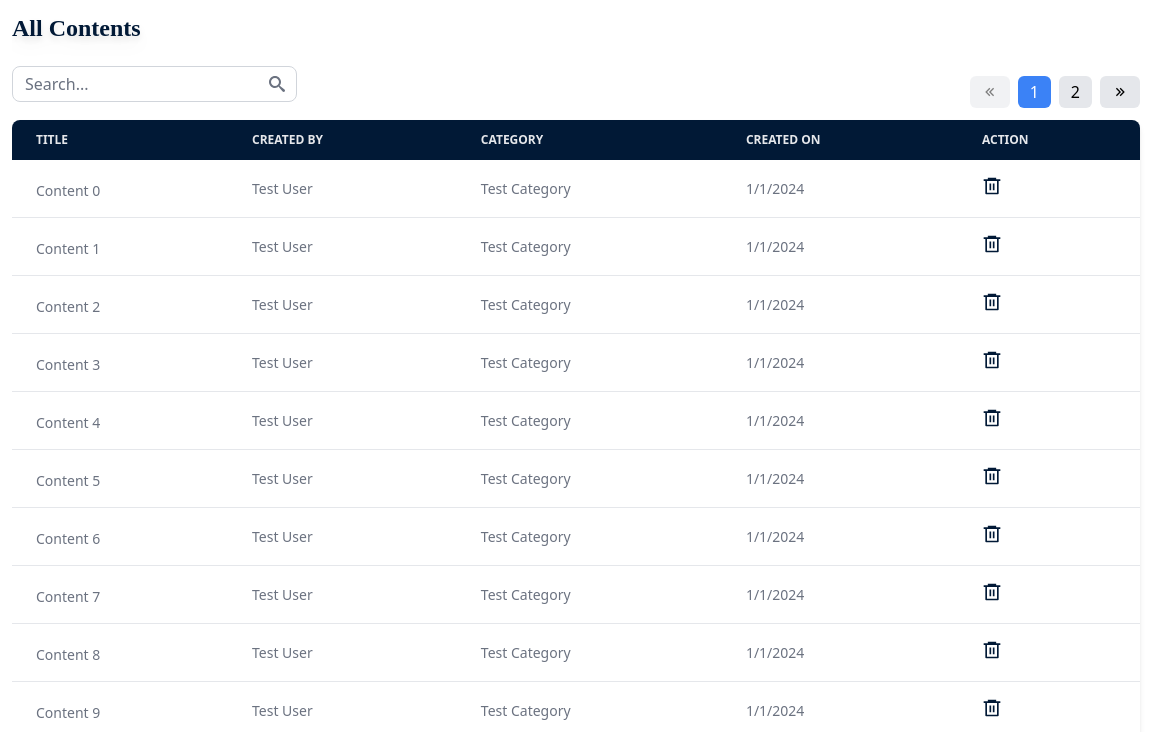
Test: ContentTable Component › updates pagination when data changes
Expected: the text "Content 0" is shown, x1=12 y1=165 x2=124 y2=217
Click the button "2".
click(1075, 92)  # box x1=1059 y1=76 x2=1092 y2=108
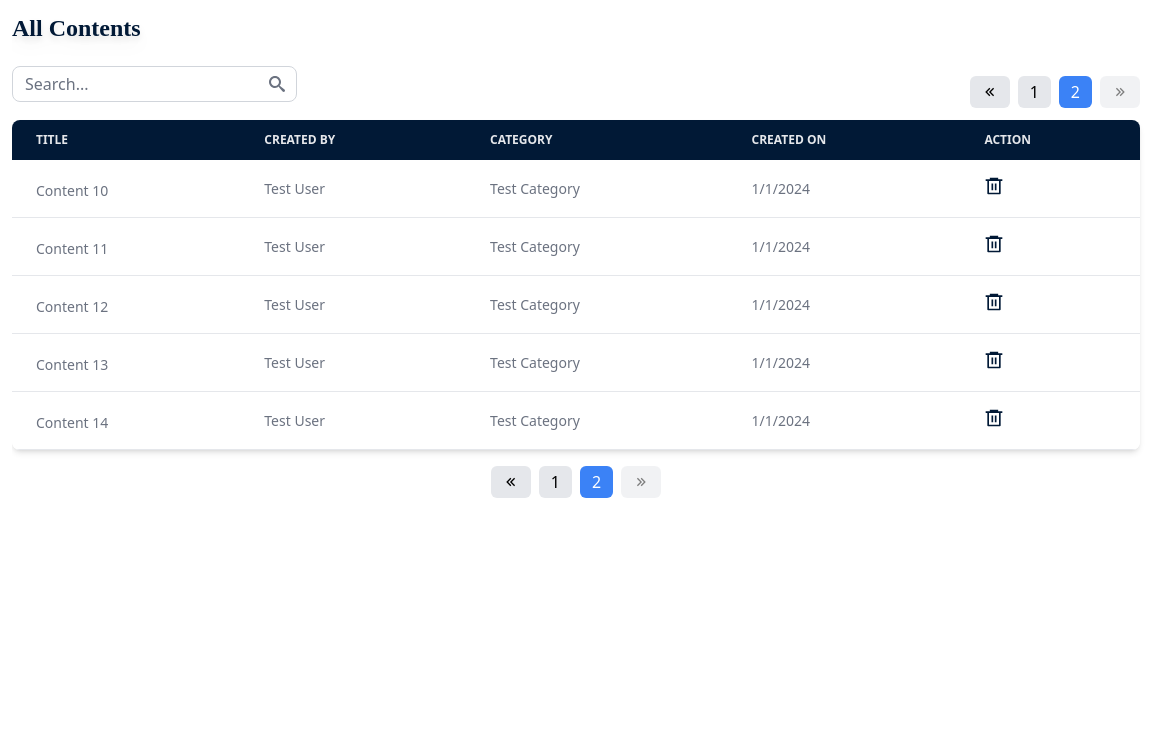
Now the link "Content 0" is gone
